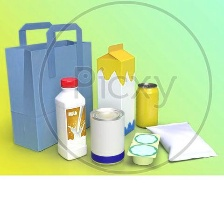bottle: (52, 77, 89, 160)
can: (88, 105, 127, 168), (133, 81, 164, 130)
carton: (91, 40, 136, 134)
snack: (146, 120, 222, 164)
